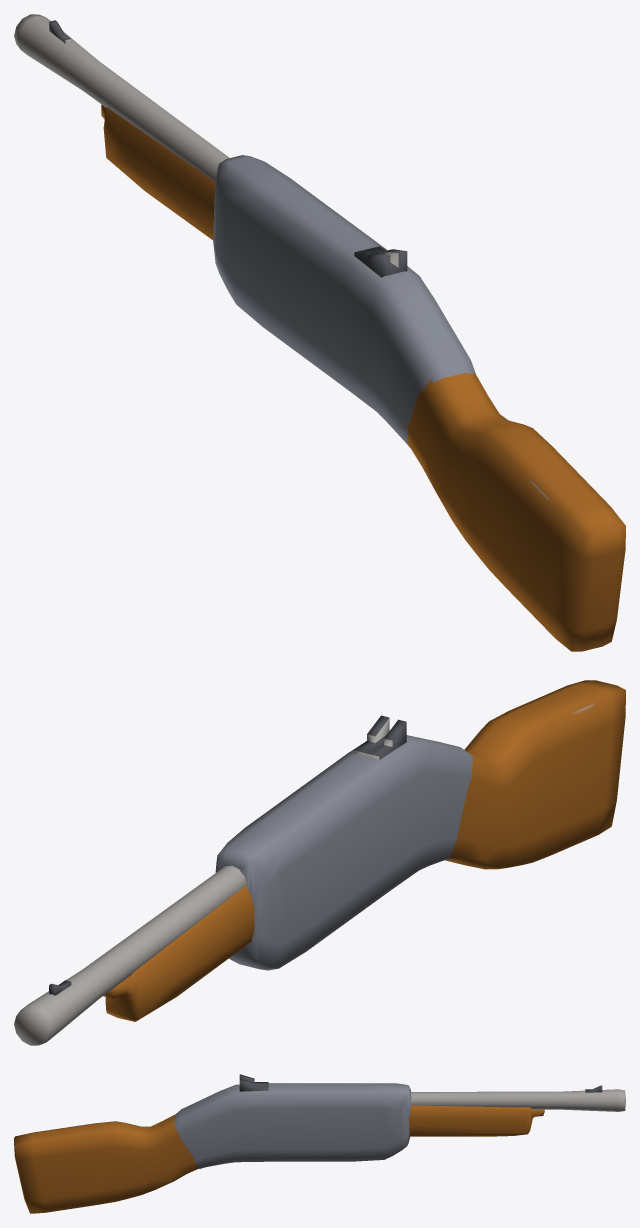
Rendered from Rifle2.glb.
The picture shows the model from 3 angles, top to bottom: view 1: azimuth 30°, elevation 25°; view 2: azimuth 150°, elevation 25°; view 3: azimuth 270°, elevation 25°; orthographic projection. The views are drawn at different scales.
Visible parts, largest first — view 1: rifle_lores; view 2: rifle_lores; view 3: rifle_lores.
Part boxes in pixels (x1,y1,x2,y2): rifle_lores: (14, 14, 625, 651); rifle_lores: (14, 680, 625, 1045); rifle_lores: (14, 1074, 625, 1213).
Size of the model in its own units: 0.1661 by 0.7587 by 3.18.
1 material, 1 textured.
